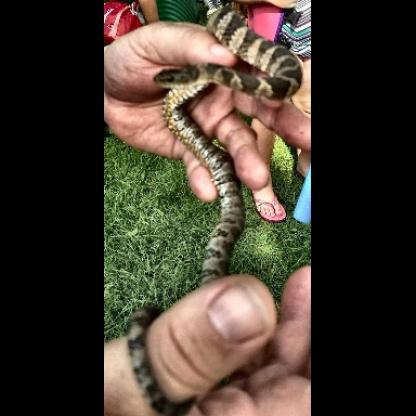Snake: (105, 94, 307, 334)
